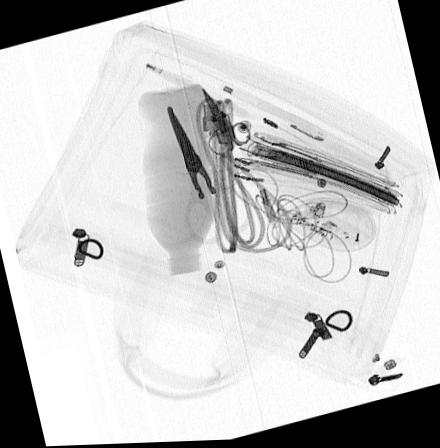Scissors: (163, 106, 258, 248), (201, 87, 250, 160)
